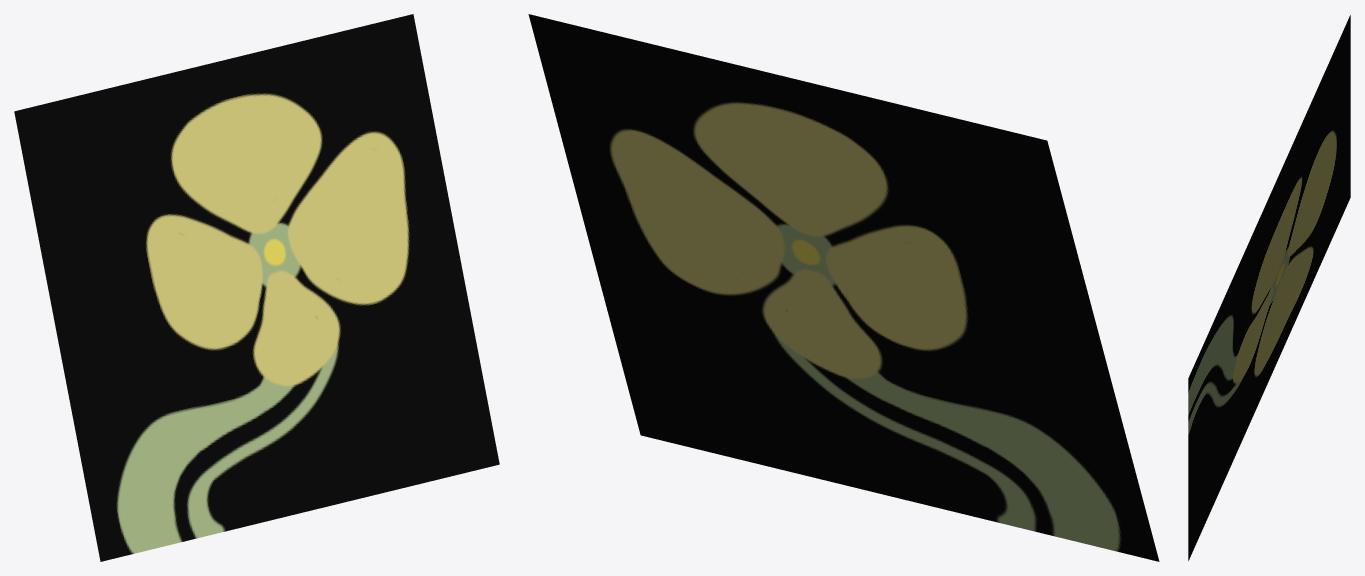
File: Flower_004.fbx
3 renders of one model, left to right at view 1: azimuth 30°, elevation 25°; view 2: azimuth 150°, elevation 25°; view 3: azimuth 270°, elevation 25°, orthographic. The views are drawn at different scales.
Visible parts, largest first — view 1: flower_004; view 2: flower_004; view 3: flower_004.
Part boxes in pixels (bbox=[...]): flower_004: bbox=[14, 14, 499, 561]; flower_004: bbox=[528, 14, 1159, 561]; flower_004: bbox=[1188, 15, 1350, 560].
Size of the model in its own units: 100 by 92.72 by 37.45.
1 material, 1 textured.
